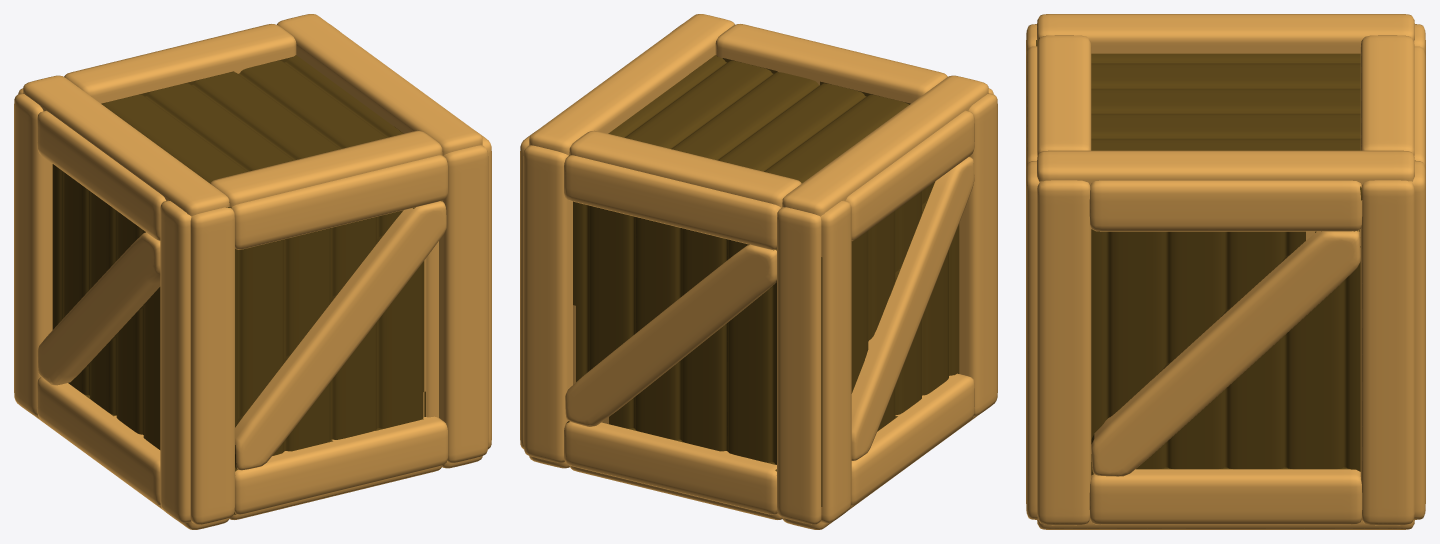
3 views of the same model, side by side, from view 1: azimuth 30°, elevation 25°; view 2: azimuth 150°, elevation 25°; view 3: azimuth 270°, elevation 25° (orthographic). The views are drawn at different scales.
Parts seen in each view (by area): view 1: crate; view 2: crate; view 3: crate.
Part boxes in pixels (box(x1,y1,x2,y2)): crate: box(14, 14, 491, 529); crate: box(520, 14, 997, 529); crate: box(1026, 14, 1425, 529).
Size of the model in its own units: 579 by 579 by 579.
